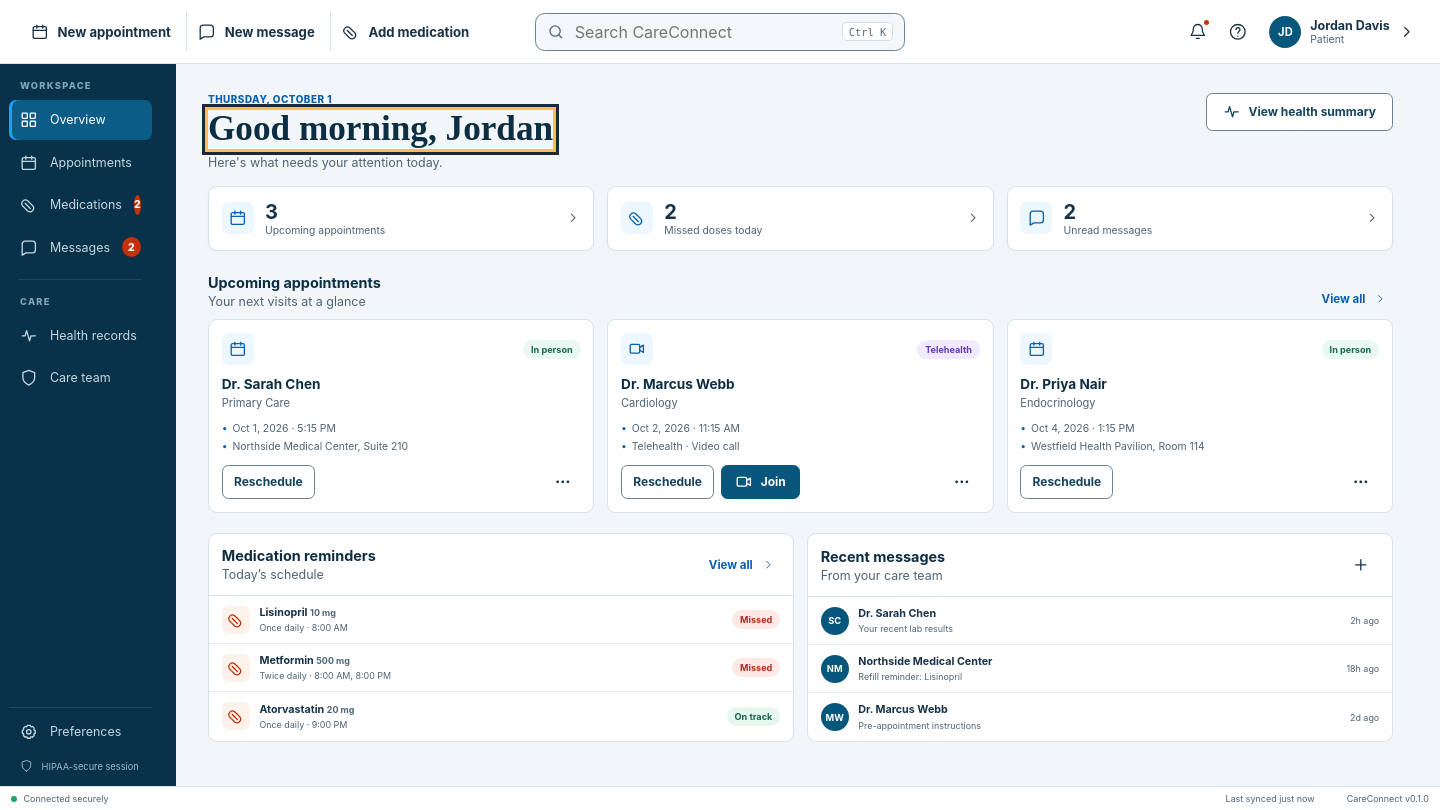
Scenario: CareConnect app › navigates from a notification and marks it read
Step 1. Click the button named "Notifications" → (1198, 32), box left=1180, top=14, right=1216, bottom=50
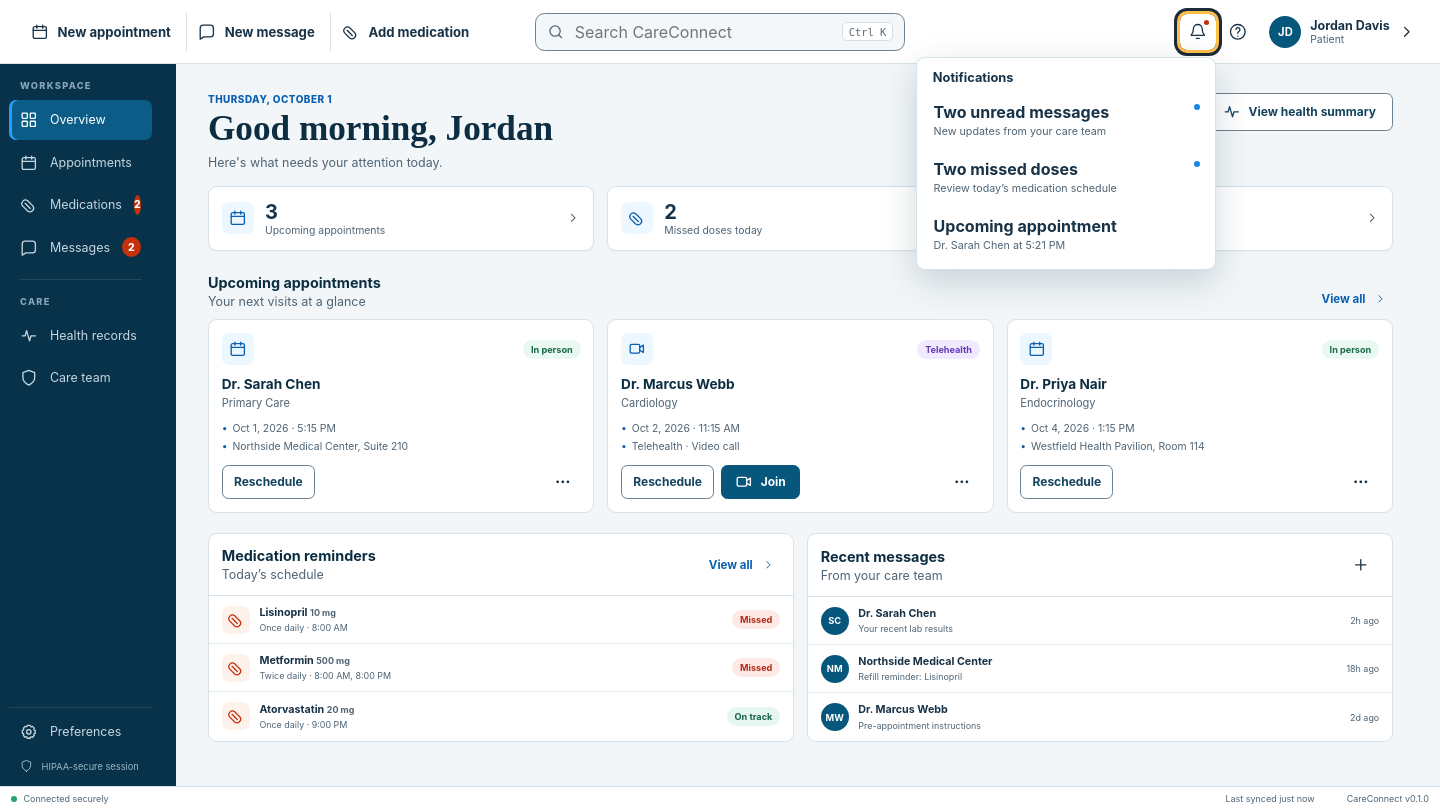
Step 2. Click the menu item "Two unread messages New updates from your care team" → (1066, 120), box left=923, top=92, right=1208, bottom=149
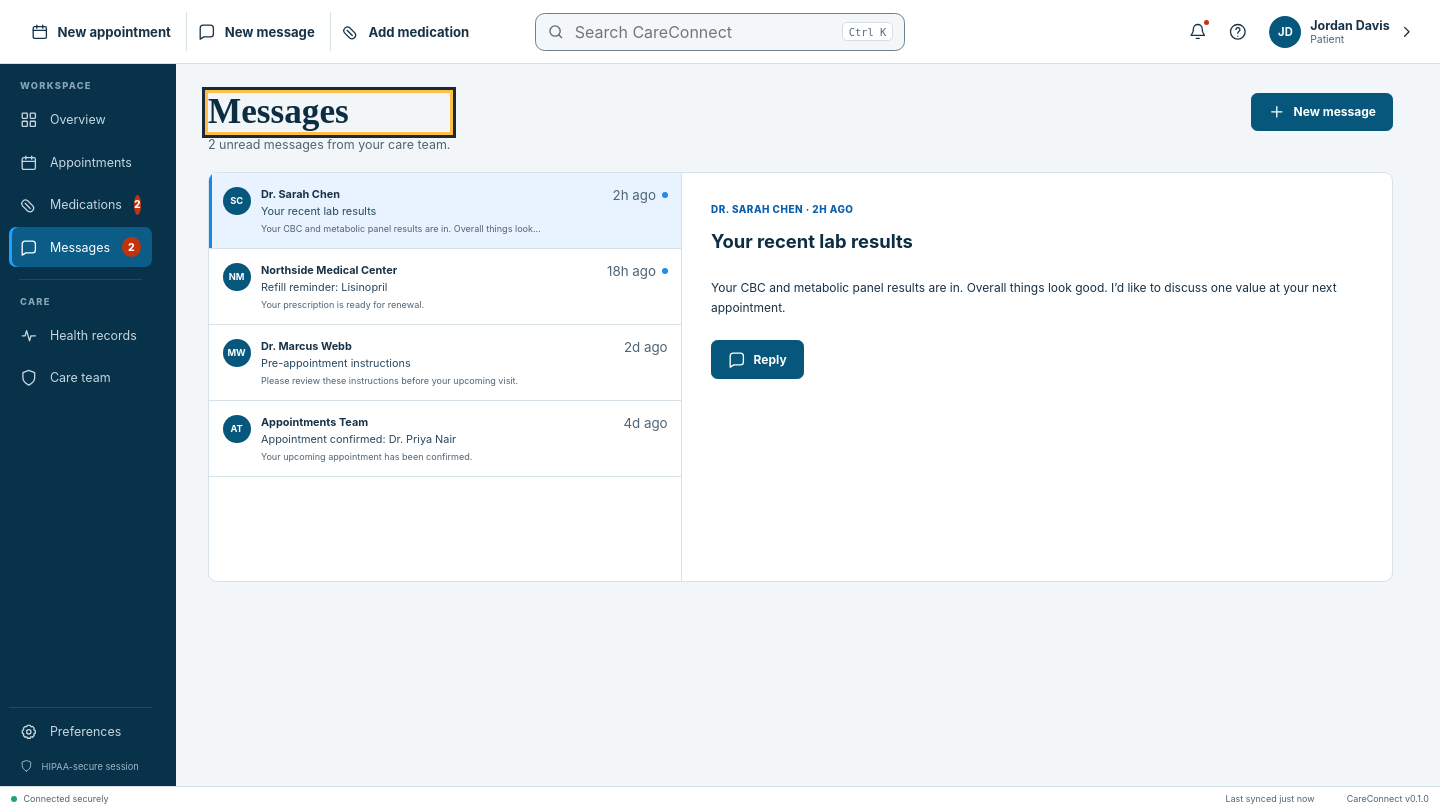
Check: the heading "Messages" is shown, box left=208, top=93, right=450, bottom=132
Check: the text "2 unread messages from your care team." is shown, box left=208, top=137, right=450, bottom=152
